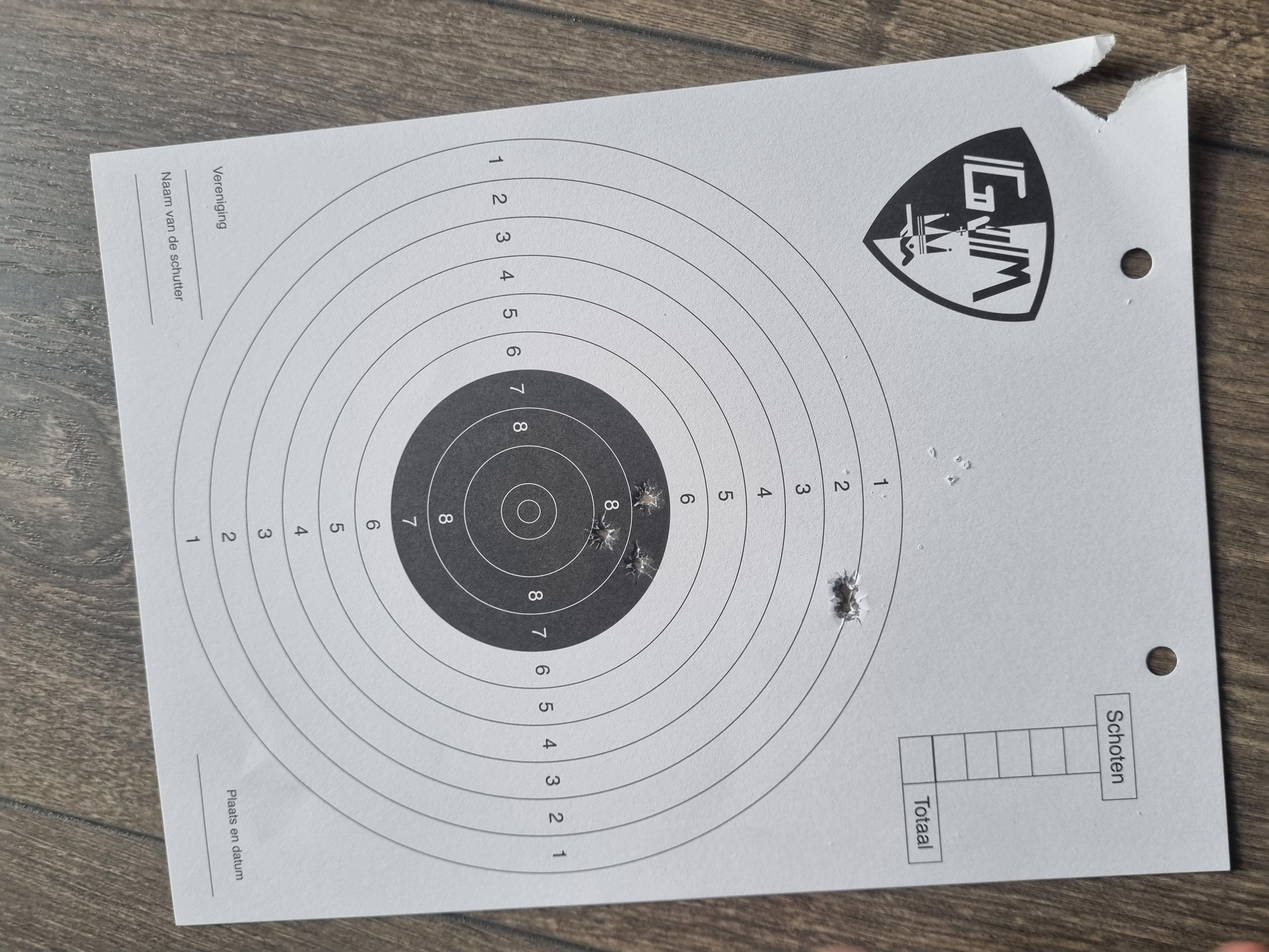hole: (493, 467, 546, 492), (536, 440, 586, 465), (435, 621, 471, 648), (473, 622, 511, 647), (584, 475, 625, 496)
